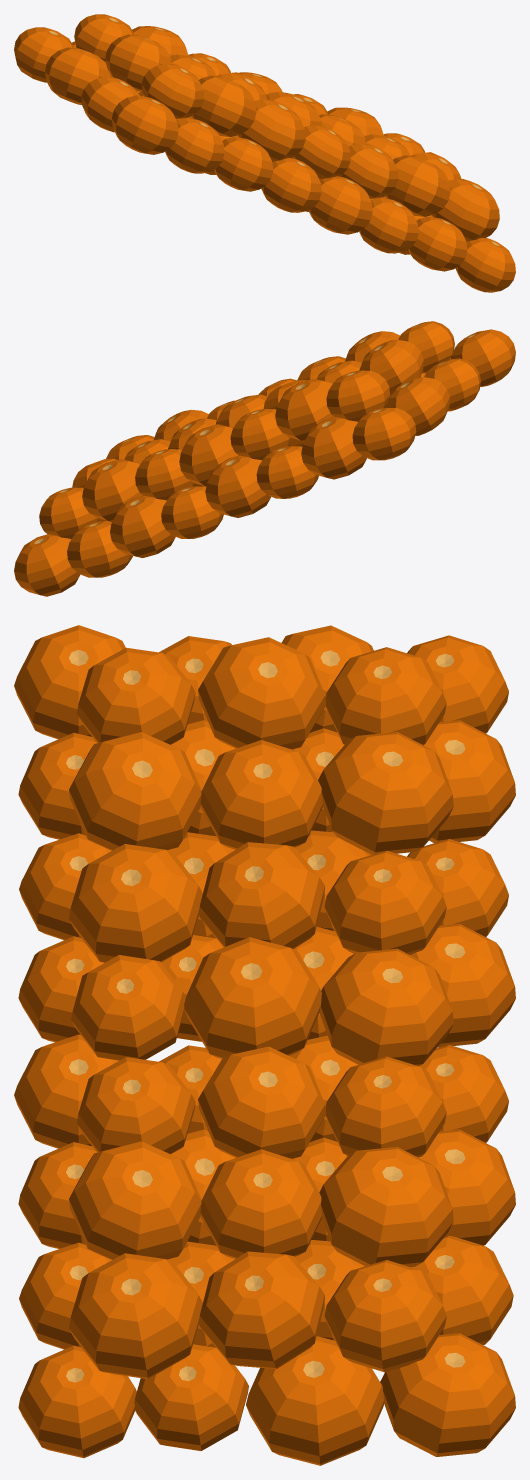
The model's file is FruitShelfOranges.fbx.
3 renders of one model, top to bottom at view 1: azimuth 30°, elevation 25°; view 2: azimuth 150°, elevation 25°; view 3: azimuth 270°, elevation 25°, orthographic. The views are drawn at different scales.
Parts seen in each view (by area): view 1: Orange; view 2: Orange; view 3: Orange.
Boxes of the visible parts, x1,y1,x2,y2 form: Orange: (14, 14, 515, 292); Orange: (14, 321, 515, 596); Orange: (14, 625, 515, 1465).
Bounding box in the file's own units: 62.48 × 43.73 × 36.78.
